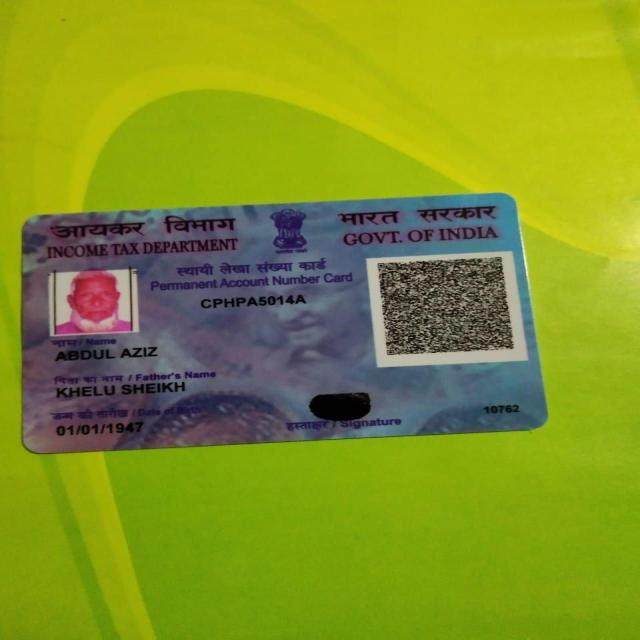pan_card: (19, 190, 552, 458)
